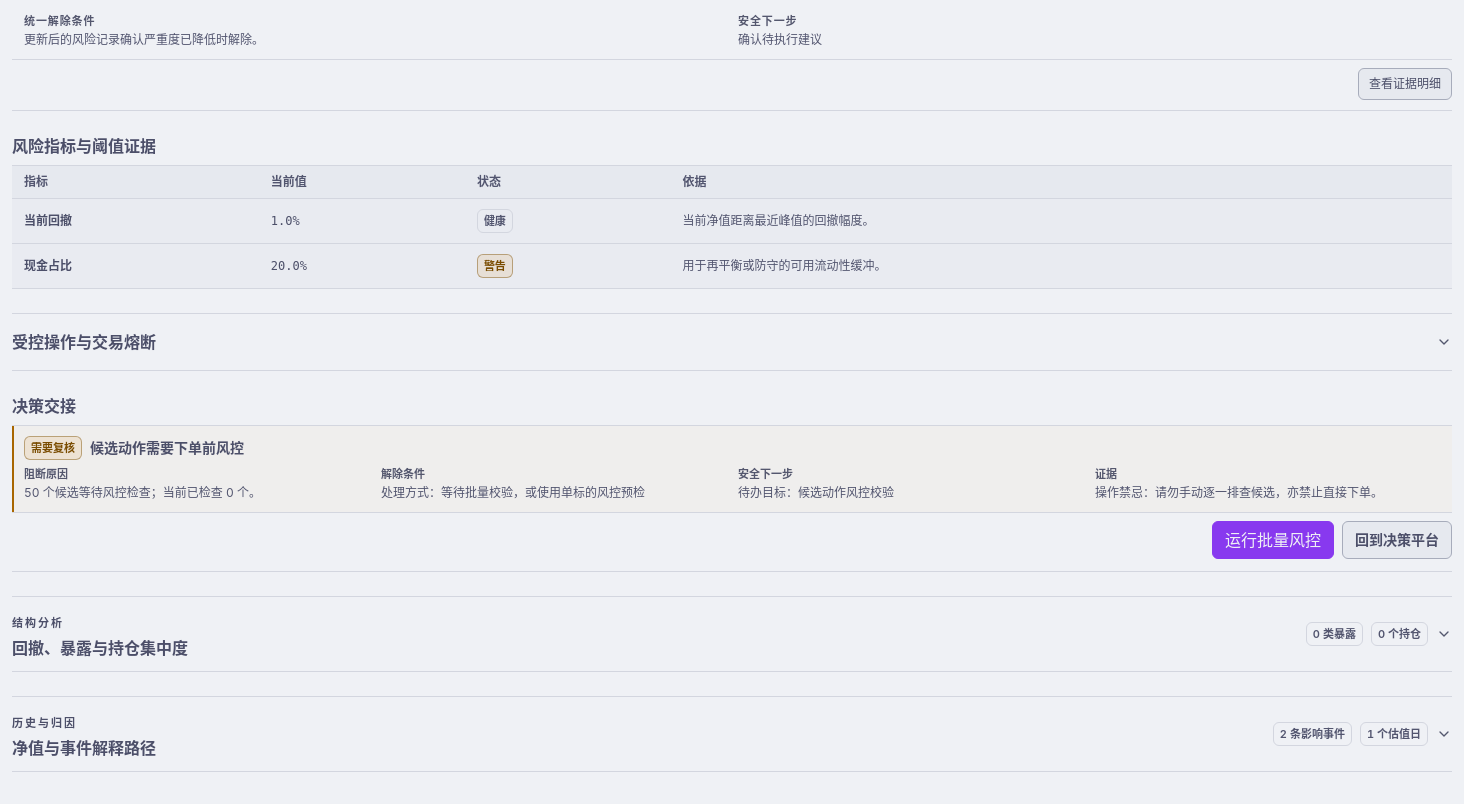
Test: localizes risk explainability ledger titles instead of rendering internal kinds
The image size is (1464, 804).
(page scrolled)
Click the heading "历史与归因 净值与事件解释路径 2 条影响事件 1 个估值日".
click(44, 723)  # box [12,716,1452,758]
(page scrolled)
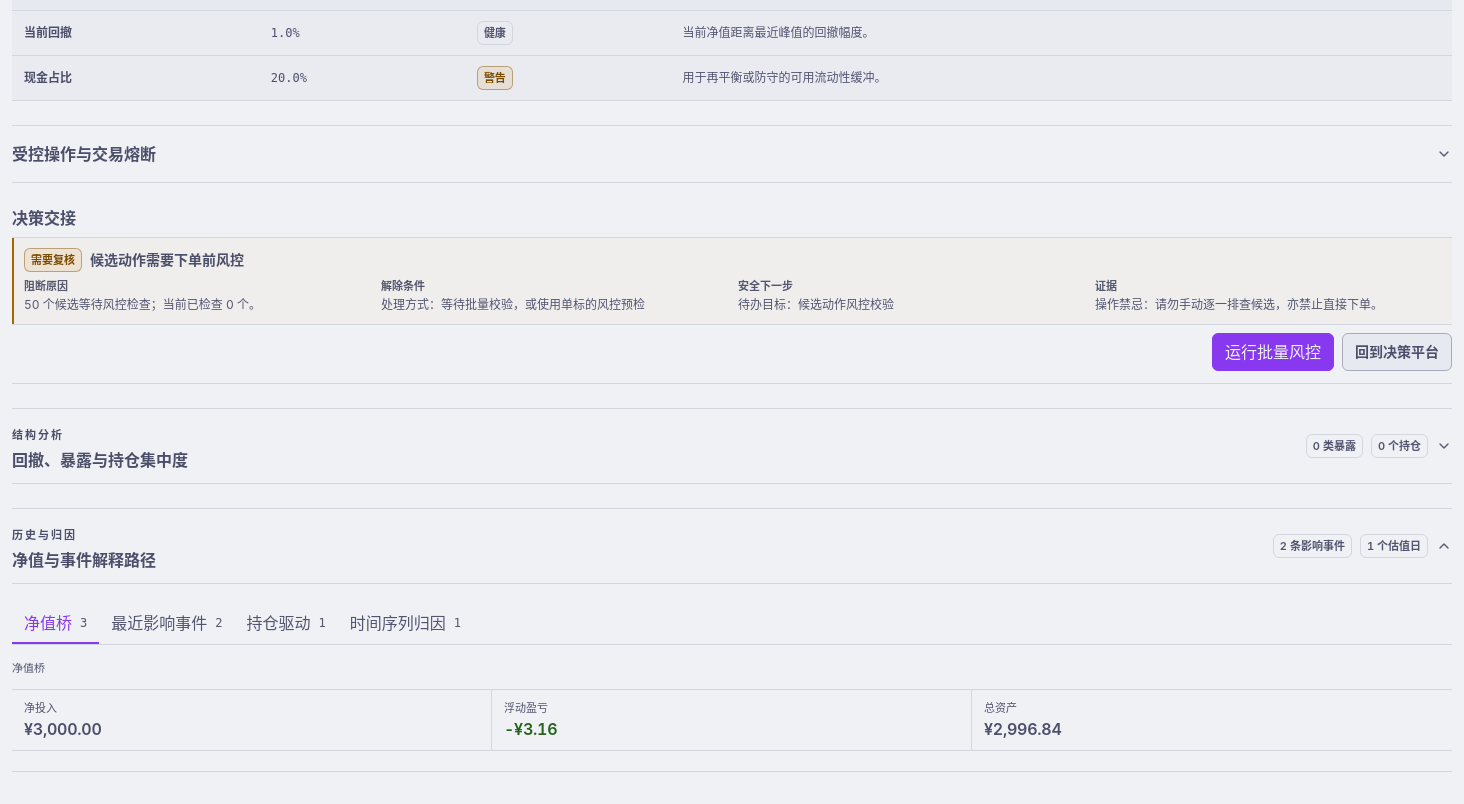
Click the tab "最近影响事件 2".
click(167, 624)  # box [99,604,235,644]
(page scrolled)
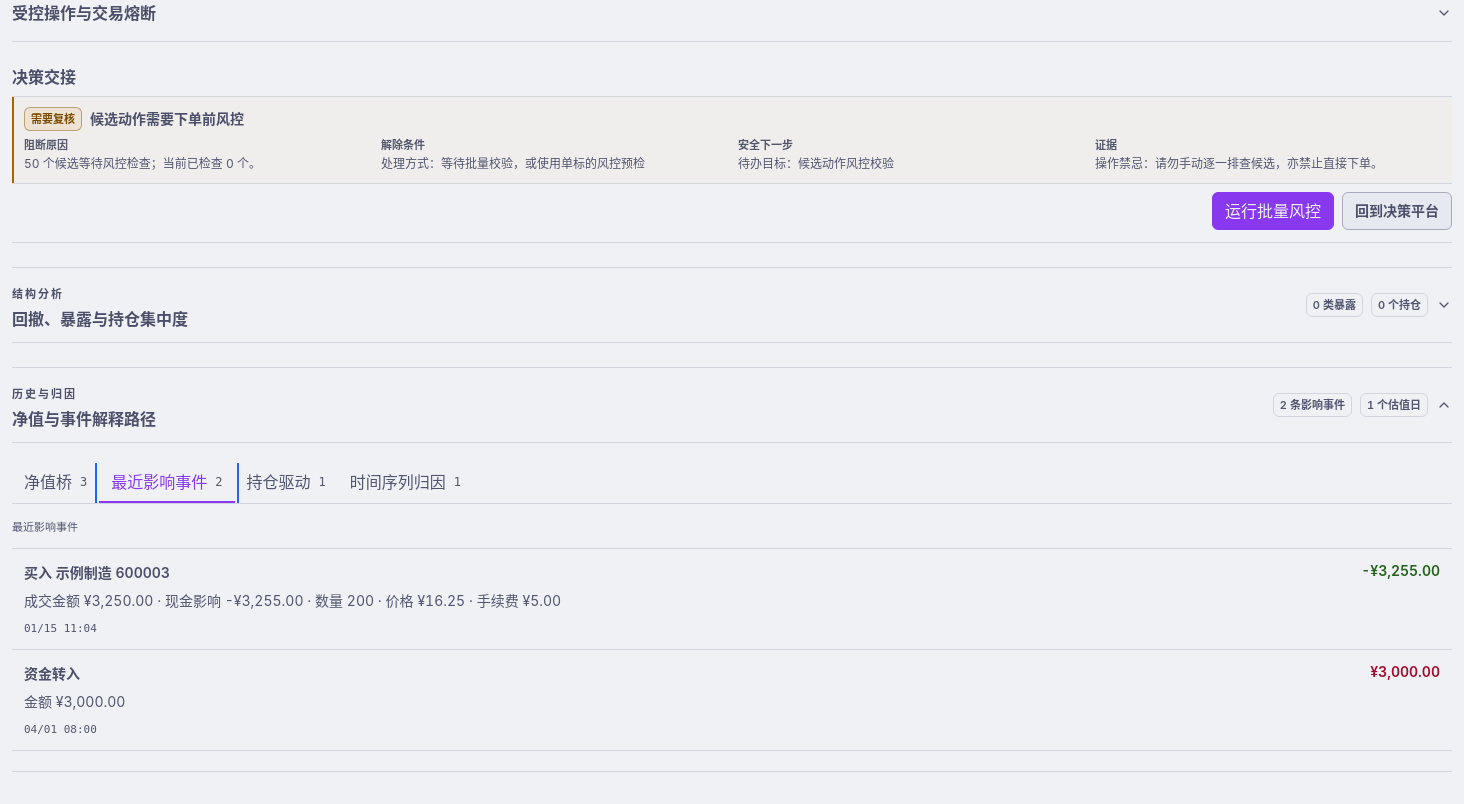
Result: the text "资金转入" is shown at [24,662,80,686]
Result: the text "金额 ¥3,000.00" is shown once at [24,693,126,710]
